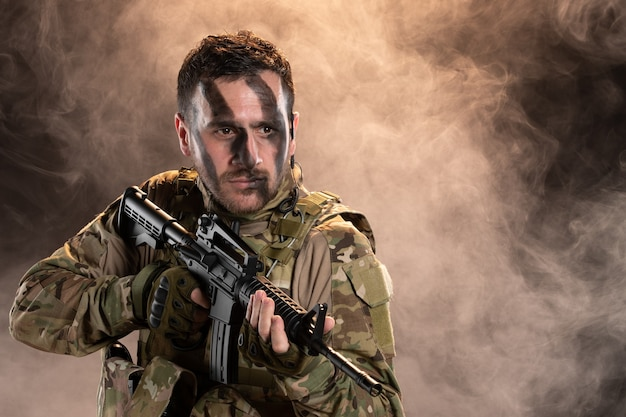gun: (114, 183, 382, 396)
